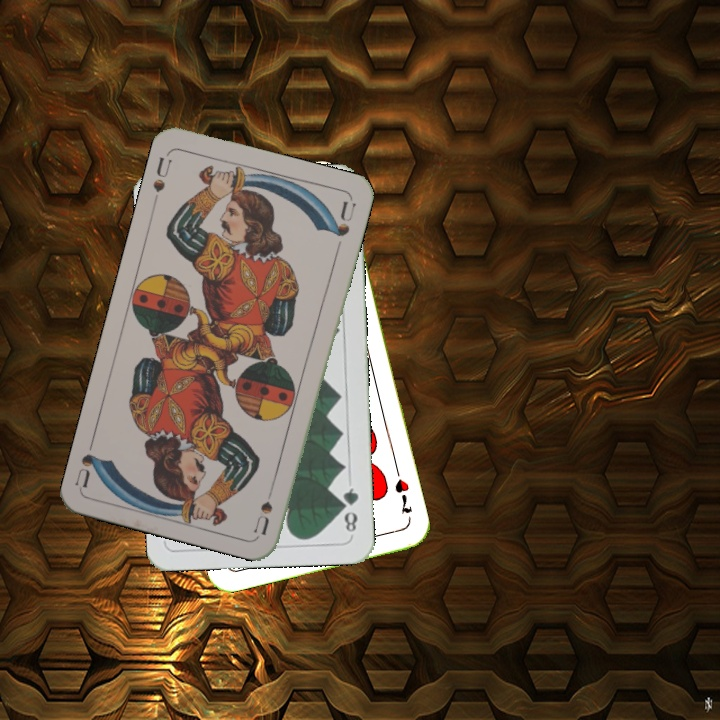G8: (338, 484, 362, 535)
H7: (390, 475, 415, 517)
SU: (148, 153, 174, 195), (249, 497, 276, 537)
